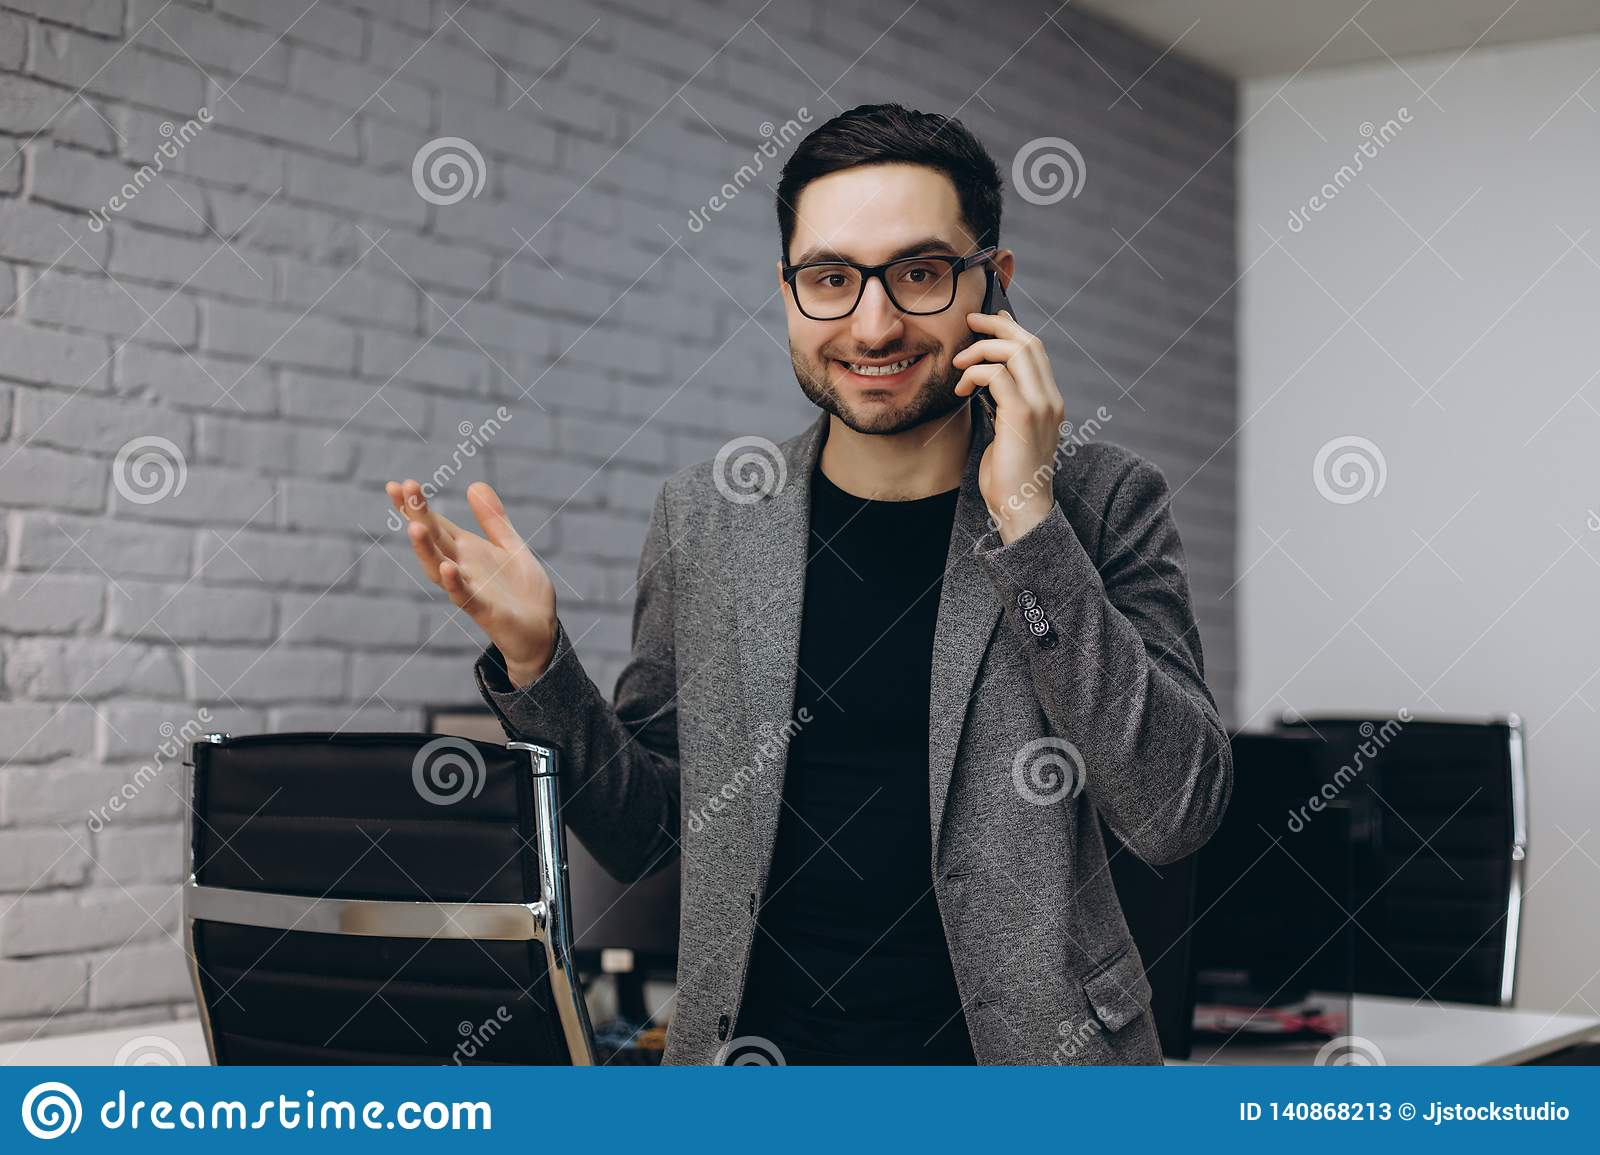phone: (973, 269, 1020, 437)
talk: (784, 242, 1067, 532)
